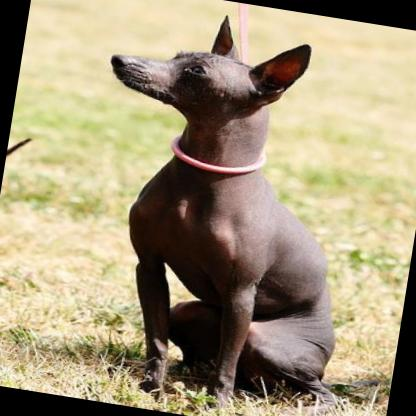Mexican_hairless: (58, 0, 396, 416)
